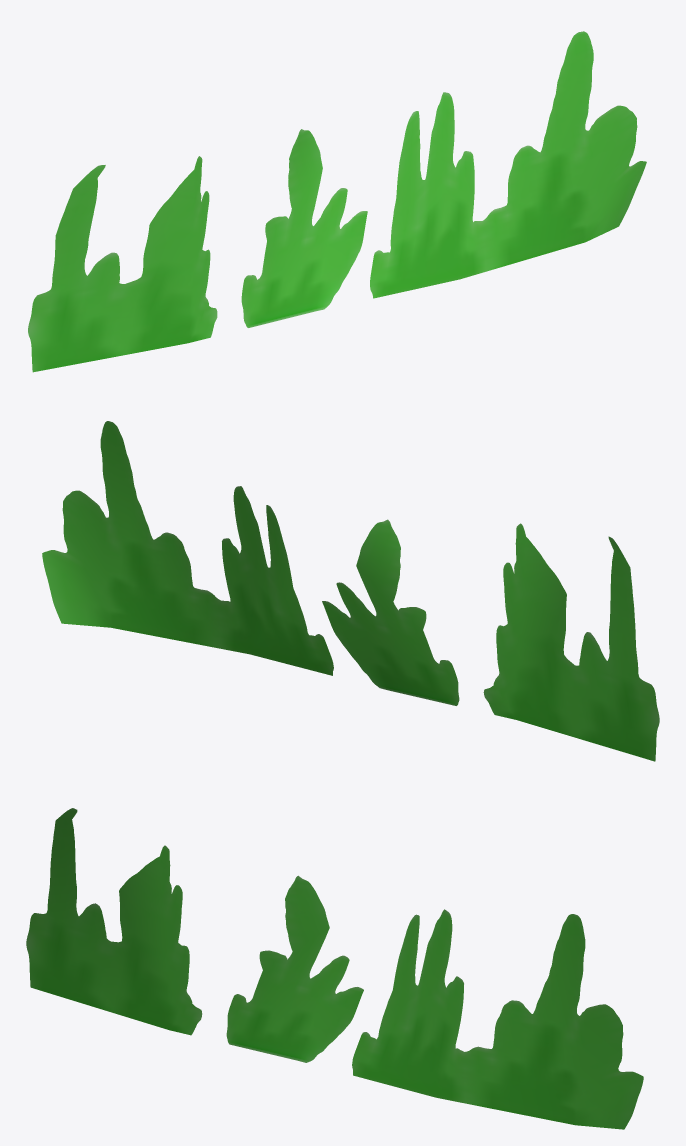
File: Grass_02.fbx
3 views of the same model, one above another, from view 1: azimuth 30°, elevation 25°; view 2: azimuth 150°, elevation 25°; view 3: azimuth 330°, elevation 25° (orthographic).
Visible parts, largest first — view 1: Grass_02; view 2: Grass_02; view 3: Grass_02.
Boxes of the visible parts, x1,y1,x2,y2 form: Grass_02: (28,31,646,372); Grass_02: (42,421,659,761); Grass_02: (26,808,643,1129).
Size of the model in its own units: 149 by 10.06 by 48.94.
